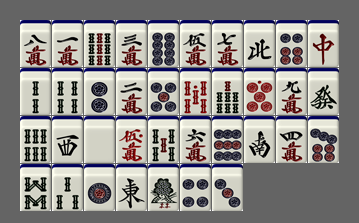0m: (116, 116, 147, 163)
0p: (244, 68, 275, 115)
0s: (180, 68, 211, 115)
1m: (52, 20, 83, 67)
1p: (84, 164, 115, 211)
1s: (148, 164, 179, 211)
1z: (116, 164, 147, 211)
2m: (116, 68, 147, 115)
2p: (84, 68, 115, 115)
2s: (20, 68, 51, 115)
2z: (244, 116, 275, 163)
3m: (116, 20, 147, 67)
3p: (212, 164, 243, 211)
3s: (52, 164, 83, 211)
3z: (52, 116, 83, 163)
4m: (276, 116, 307, 163)
4p: (180, 164, 211, 211)
4s: (52, 68, 83, 115)
4z: (244, 20, 275, 67)
5m: (180, 20, 211, 67)
5p: (148, 68, 179, 115)
5s: (148, 116, 179, 163)
5z: (84, 116, 115, 163)
6m: (180, 116, 211, 163)
6p: (276, 20, 307, 67)
6s: (20, 116, 51, 163)
6z: (308, 68, 339, 115)
7m: (212, 20, 243, 67)
7p: (308, 116, 339, 163)
7s: (212, 68, 243, 115)
7z: (308, 20, 339, 67)
8m: (20, 20, 51, 67)
8p: (148, 20, 179, 67)
8s: (20, 164, 51, 211)
9m: (276, 68, 307, 115)
9p: (212, 116, 243, 163)
9s: (84, 20, 115, 67)
